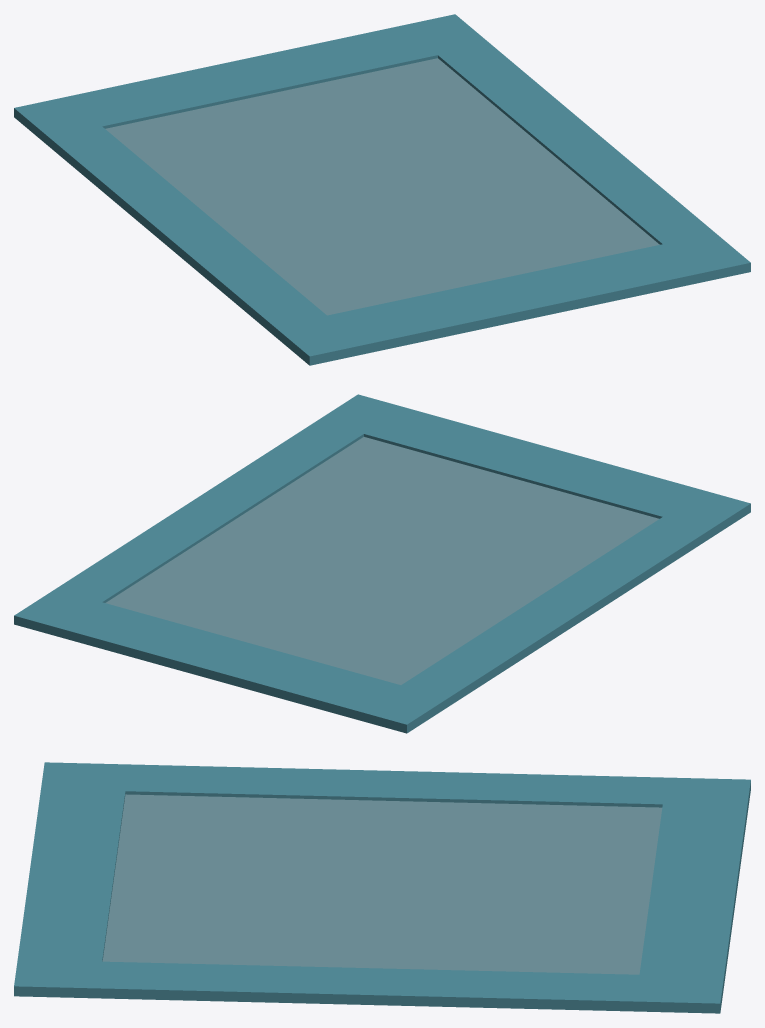
The model's file is g_o_carpet_03.fbx.
3 renders of one model, top to bottom at view 1: azimuth 30°, elevation 25°; view 2: azimuth 150°, elevation 25°; view 3: azimuth 270°, elevation 25°, orthographic. The views are drawn at different scales.
Parts seen in each view (by area): view 1: g_o_carpet_03; view 2: g_o_carpet_03; view 3: g_o_carpet_03.
Part boxes in pixels (left/top/right/bottom): g_o_carpet_03: left=14, top=14, right=750, bottom=365; g_o_carpet_03: left=14, top=394, right=750, bottom=733; g_o_carpet_03: left=14, top=762, right=750, bottom=1013.
Bounding box in the file's own units: 1.21 × 0.0235 × 1.57.
